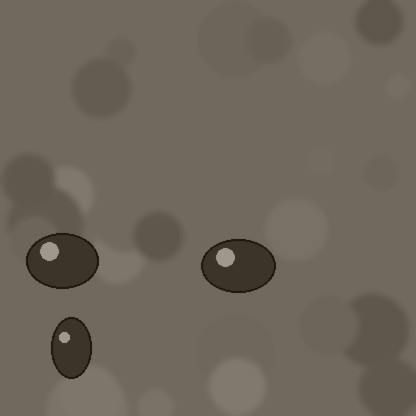gota: (26, 235, 98, 293), (201, 241, 275, 297), (51, 319, 91, 383)
